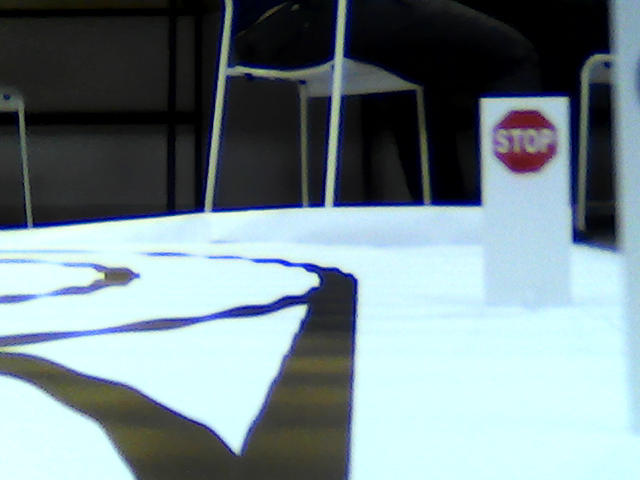Stop: (495, 107, 558, 175)
